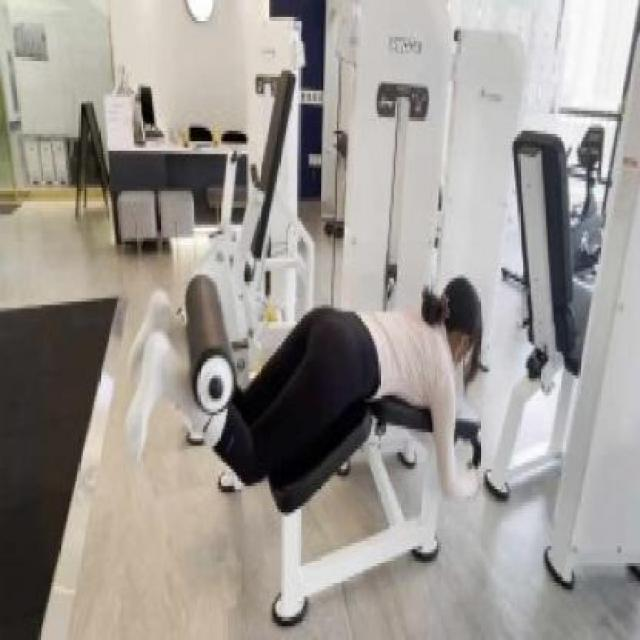reg curl machine: (118, 0, 484, 640)
